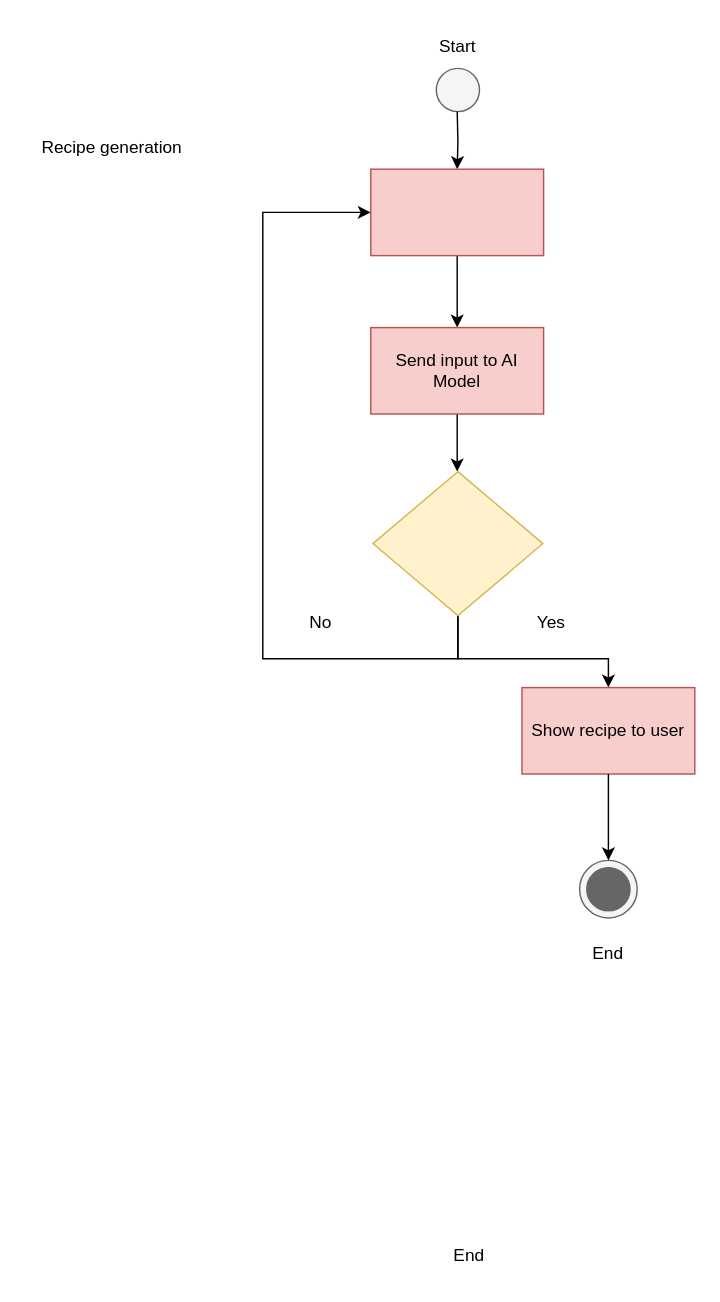
Some shapes in this 720 by 1302 pixel diagram are drawn without their labels. The centre of each missing label's shape, as x and y in pixels:
Available recipes?: (x=457, y=543)
System read input ingredients: (x=456, y=212)
